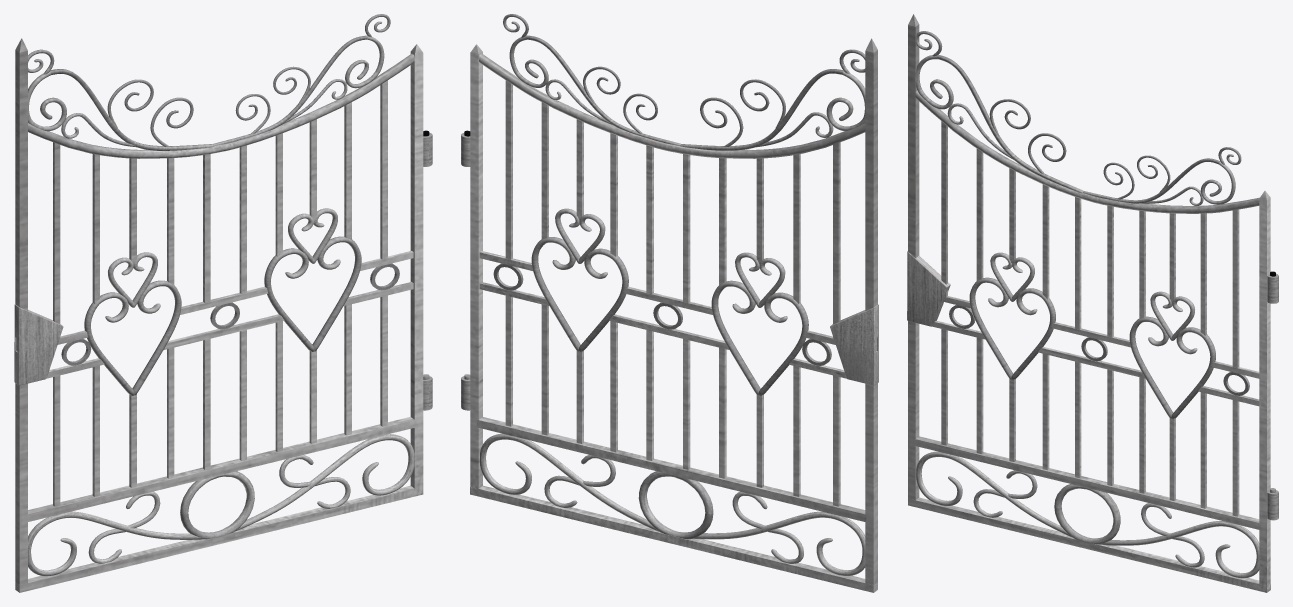
Rendered from PuertaDer.obj.
The picture shows the model from 3 angles, left to right: view 1: azimuth 30°, elevation 25°; view 2: azimuth 150°, elevation 25°; view 3: azimuth 330°, elevation 25°; orthographic projection. The views are drawn at different scales.
Visible parts, largest first — view 1: PuertaDer:Ancient_Gate_Modelgate_leftgate_main; view 2: PuertaDer:Ancient_Gate_Modelgate_leftgate_main; view 3: PuertaDer:Ancient_Gate_Modelgate_leftgate_main.
Boxes of the visible parts, x1,y1,x2,y2 form: PuertaDer:Ancient_Gate_Modelgate_leftgate_main: [14, 14, 432, 592]; PuertaDer:Ancient_Gate_Modelgate_leftgate_main: [461, 14, 878, 592]; PuertaDer:Ancient_Gate_Modelgate_leftgate_main: [907, 14, 1278, 592].
Bounding box in the file's own units: 3.06 × 3.88 × 0.077.
2 materials, 1 textured.
